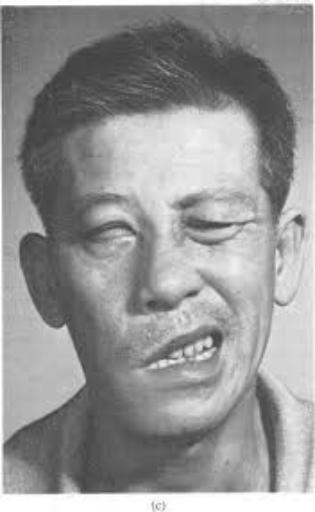left_eye: (185, 212, 245, 238)
left_lip_corner: (213, 324, 235, 351)
right_eye: (85, 215, 138, 248)
right_lip_corner: (132, 356, 161, 375)
